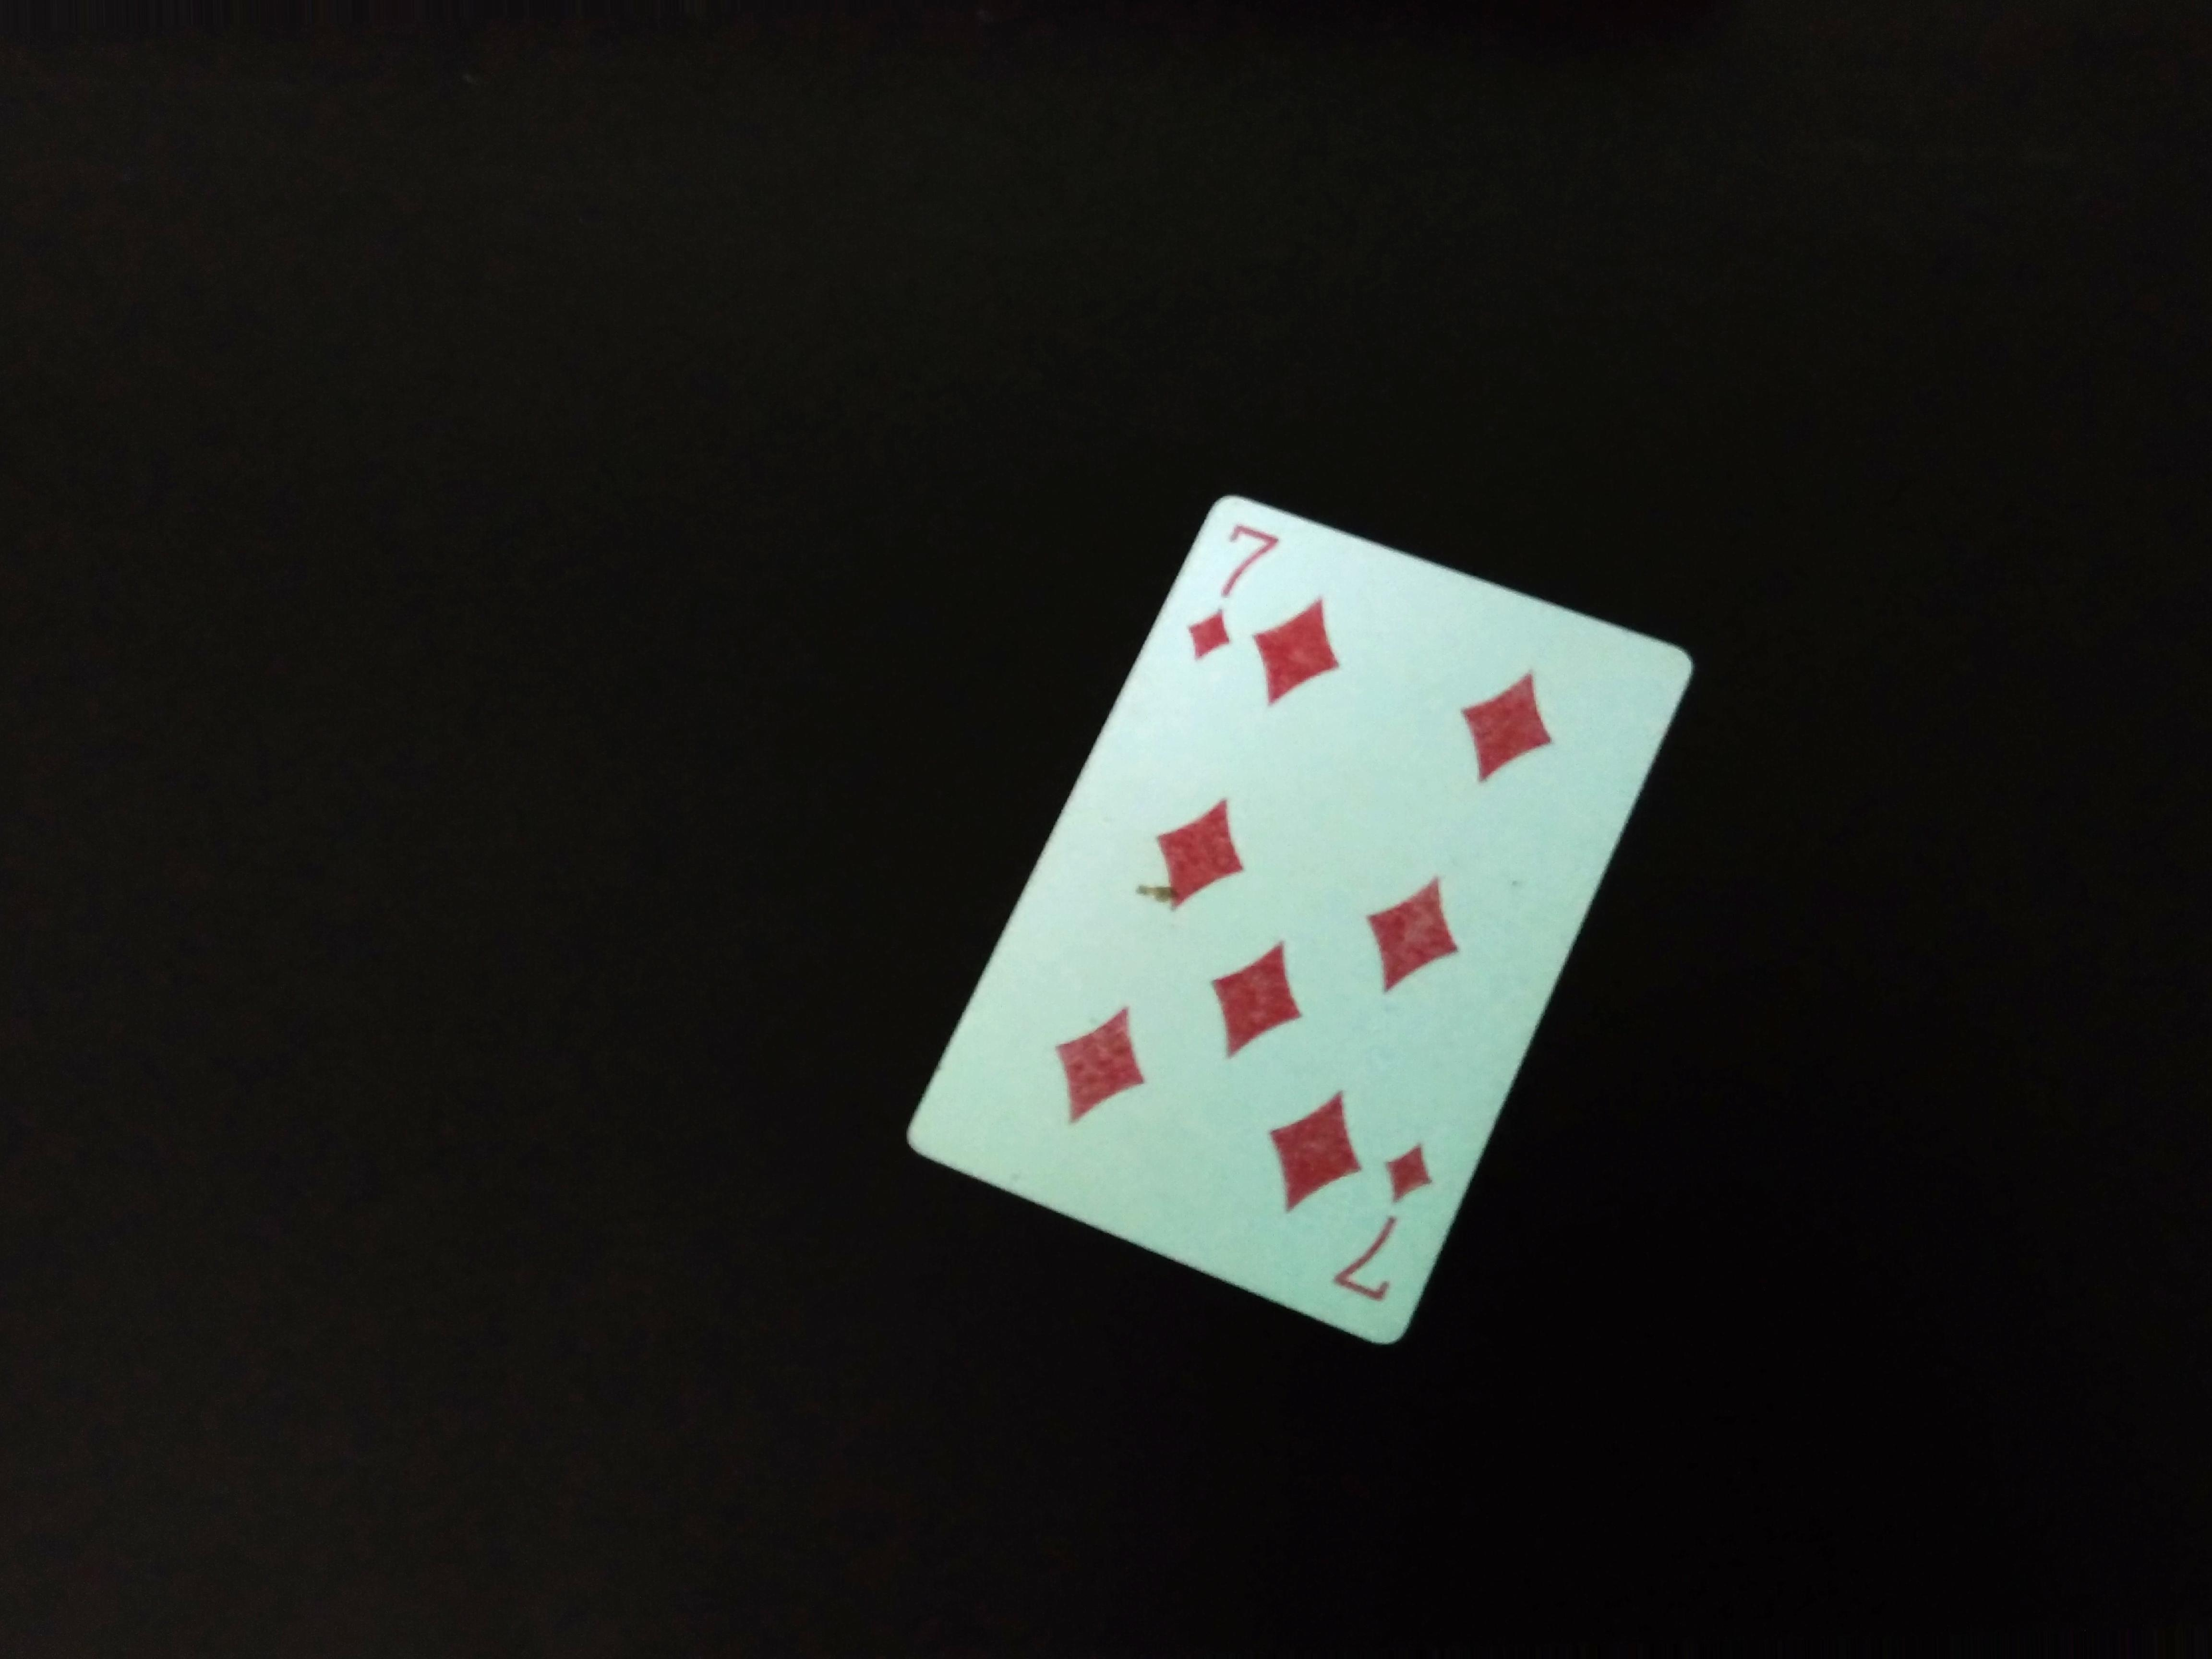7D: (1183, 514, 1278, 680)
